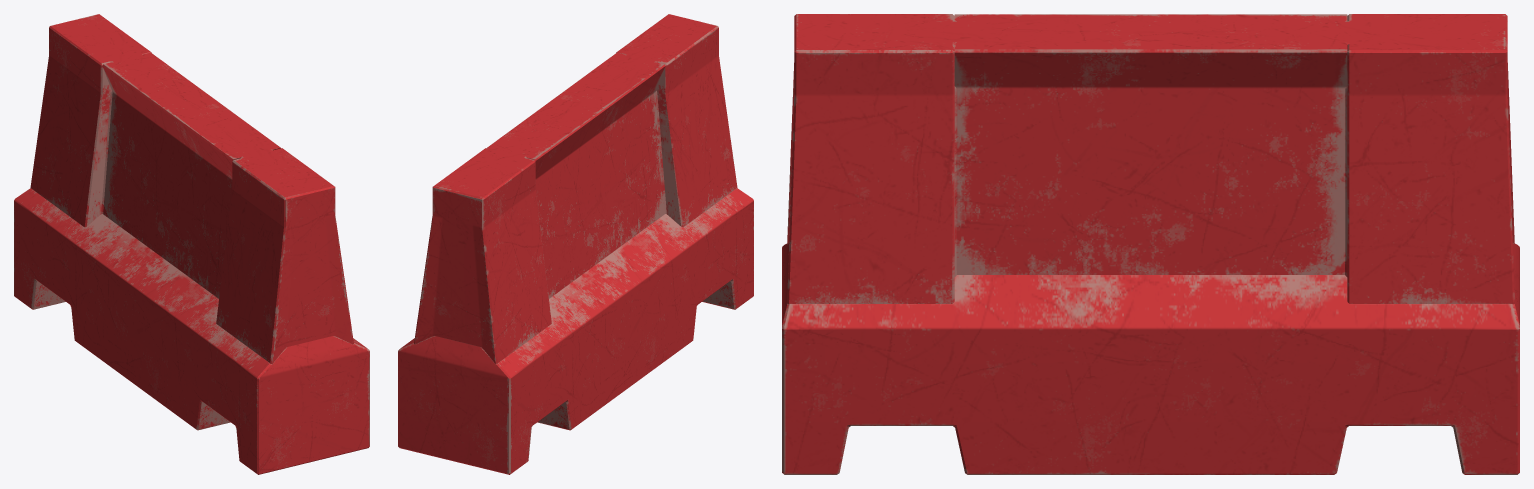
File: R_lilwall.fbx
3 renders of one model, left to right at view 1: azimuth 30°, elevation 25°; view 2: azimuth 150°, elevation 25°; view 3: azimuth 270°, elevation 25°, orthographic. The views are drawn at different scales.
Visible parts, largest first — view 1: pCube4; view 2: pCube4; view 3: pCube4.
Part boxes in pixels (x1,y1,x2,y2): pCube4: (14, 14, 369, 474); pCube4: (398, 14, 753, 474); pCube4: (782, 14, 1519, 474).
Bounding box in the file's own units: 0.4 × 0.9026 × 1.5.
